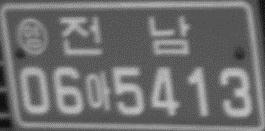0: (19, 65, 50, 115)
1: (183, 66, 215, 118)
3: (218, 67, 254, 119)
4: (148, 66, 180, 115)
5: (112, 67, 146, 117)
6: (52, 65, 83, 115)
아: (84, 70, 111, 110)
영: (15, 16, 49, 56)
전남_D: (58, 15, 191, 58)
